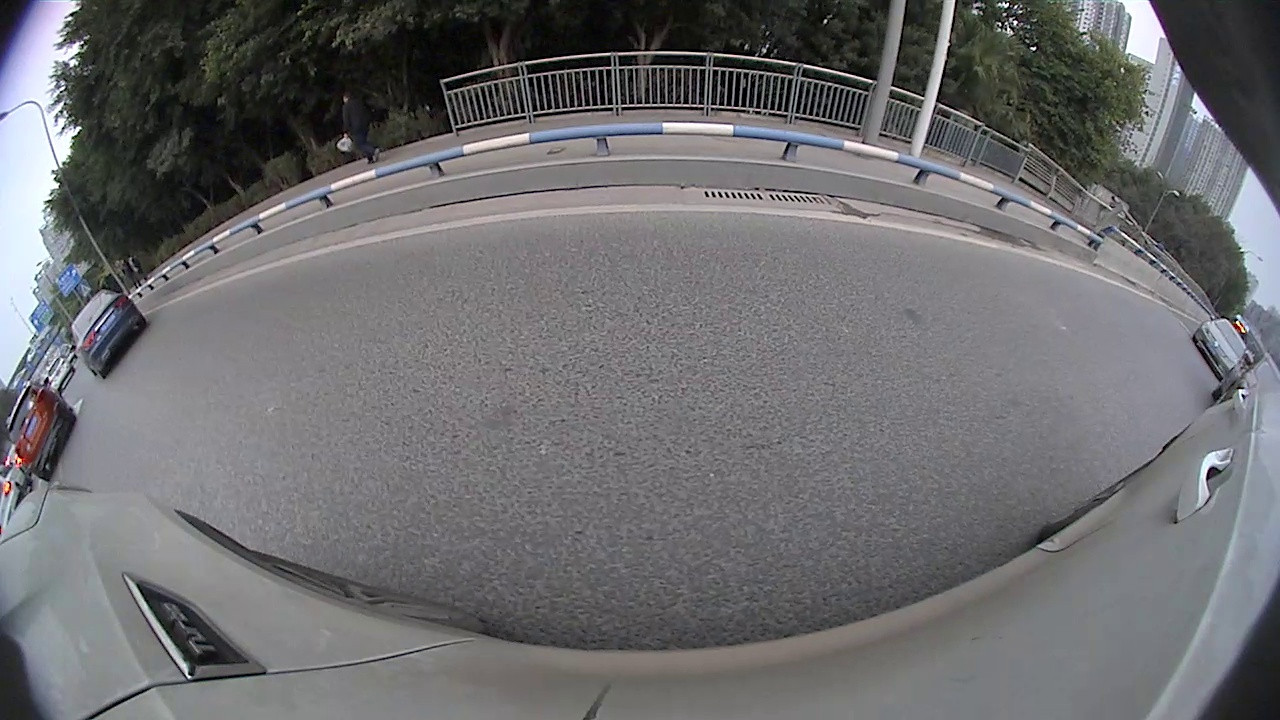car: (70, 287, 151, 381), (4, 381, 78, 483), (1209, 349, 1279, 404), (1190, 317, 1253, 374), (3, 454, 33, 534), (39, 355, 77, 388)
person: (342, 91, 364, 168), (128, 250, 142, 286), (122, 258, 134, 297)
rear: (61, 408, 79, 427), (95, 362, 112, 380), (133, 312, 149, 331), (1209, 384, 1225, 402), (36, 468, 54, 483)
